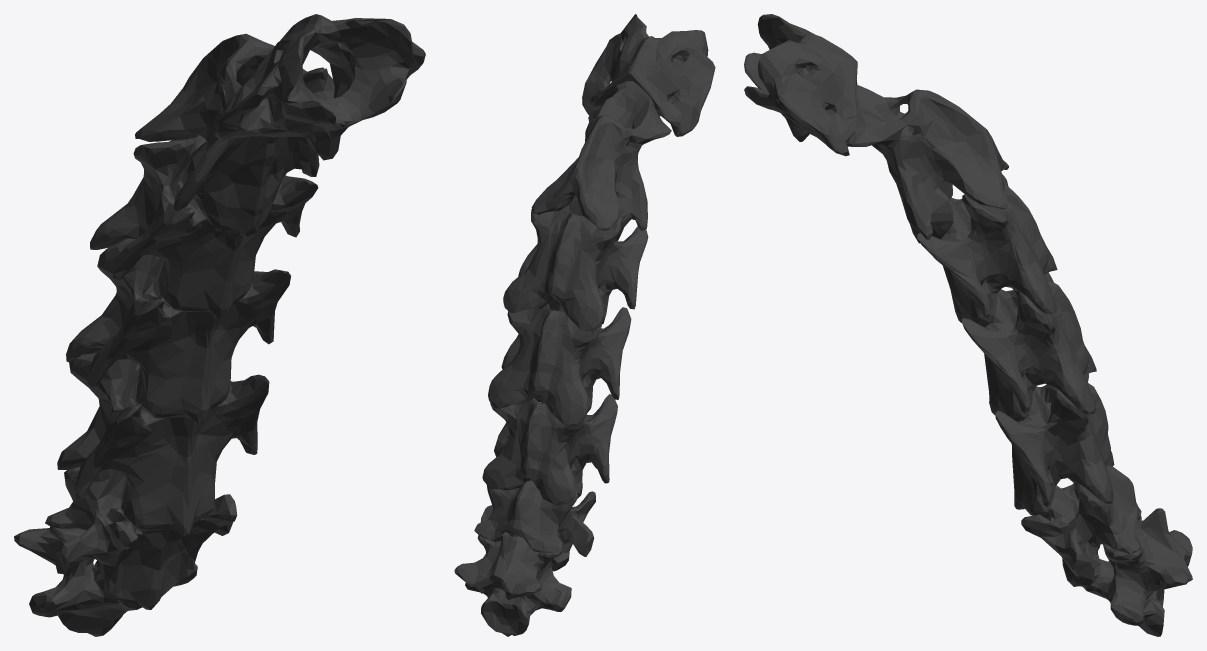
File: CERVICAL_VERTEBRAE.glb
The picture shows the model from 3 angles, left to right: view 1: azimuth 30°, elevation 25°; view 2: azimuth 150°, elevation 25°; view 3: azimuth 270°, elevation 25°; orthographic projection. The views are drawn at different scales.
Visible parts, largest first — view 1: CERVICAL_VERTEBRAE; view 2: CERVICAL_VERTEBRAE; view 3: CERVICAL_VERTEBRAE.
Part boxes in pixels (x1,y1,x2,y2): CERVICAL_VERTEBRAE: (14,14,425,636); CERVICAL_VERTEBRAE: (454,14,715,636); CERVICAL_VERTEBRAE: (744,14,1192,636).
Size of the model in its own units: 0.1932 by 0.7807 by 0.5249.
1 material, 1 textured.
